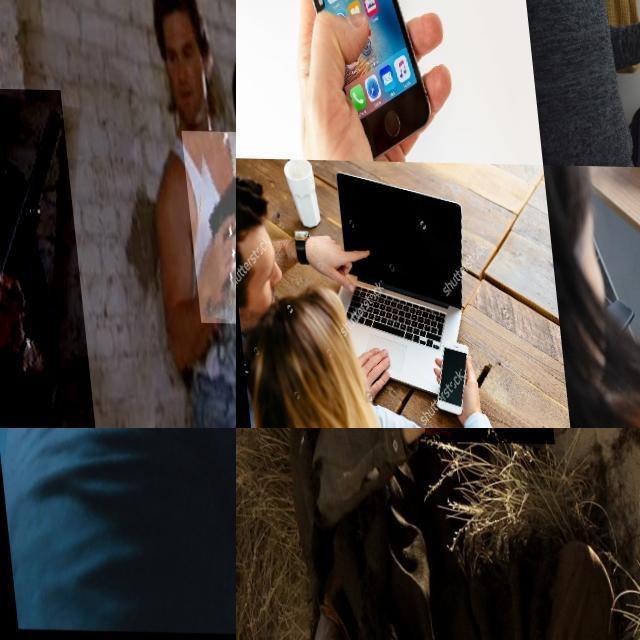gun-knife-thesis - v11 Yolov5 augmented: (0, 85, 105, 428), (177, 128, 236, 322), (407, 428, 548, 501)
